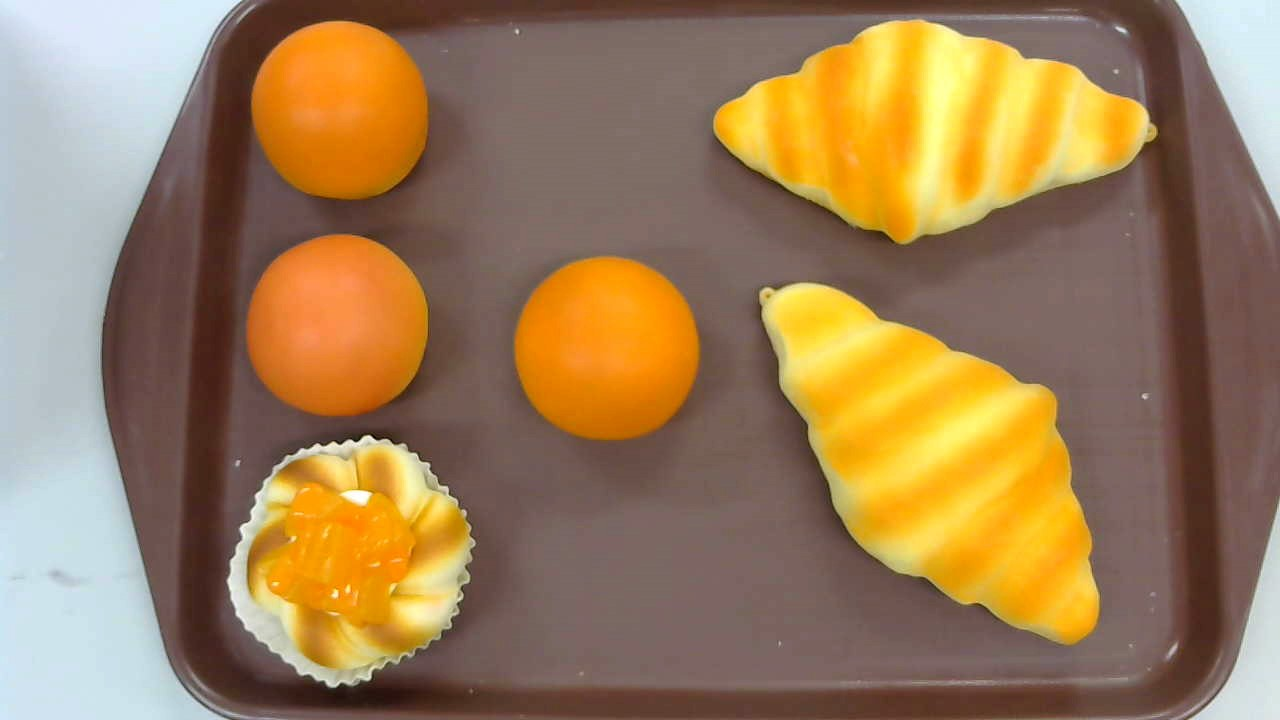bun: (515, 255, 700, 441), (245, 233, 428, 417), (250, 21, 428, 199)
croissant: (757, 282, 1103, 647), (713, 18, 1158, 247)
mango tart: (225, 434, 476, 691)
